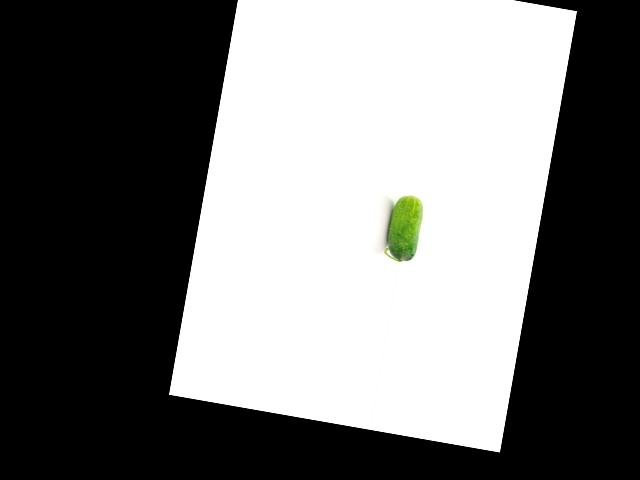cucumber: (382, 191, 425, 263)
